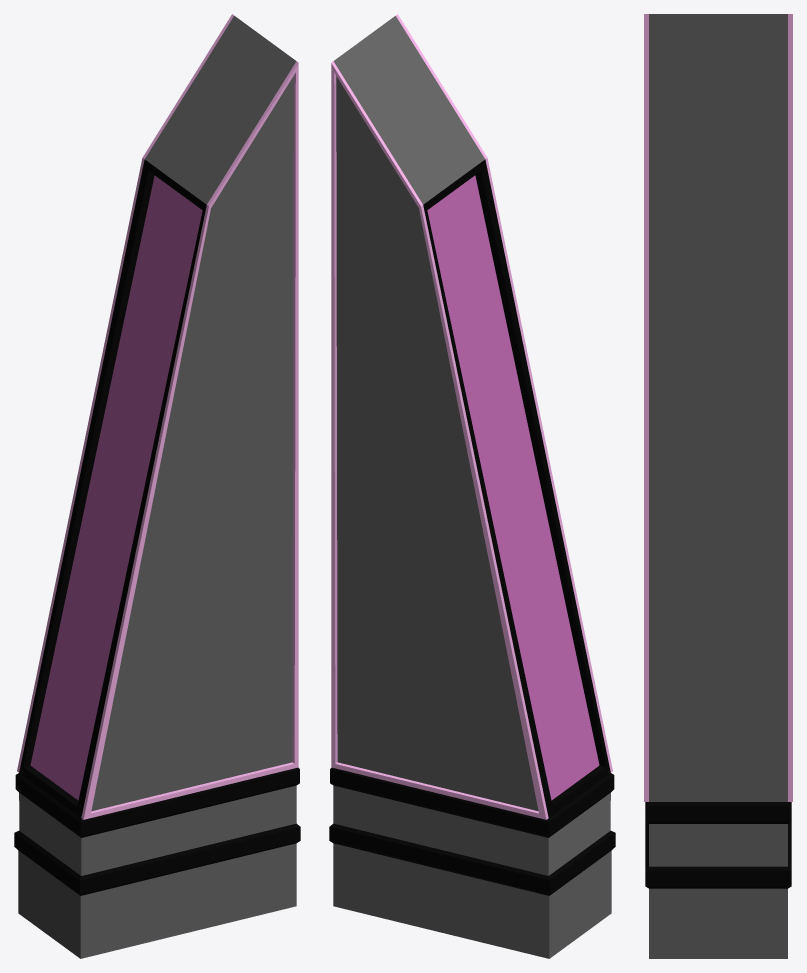
The model's file is SM_Environment_Buildings_Tall_02.fbx.
3 views of the same model, side by side, from view 1: azimuth 30°, elevation 25°; view 2: azimuth 150°, elevation 25°; view 3: azimuth 270°, elevation 25° (orthographic). The views are drawn at different scales.
Visible parts, largest first — view 1: SM_Environment_Buildings_Tall_02, Lights; view 2: SM_Environment_Buildings_Tall_02, Lights; view 3: SM_Environment_Buildings_Tall_02, Lights.
Part boxes in pixels (x1,y1,x2,y2): SM_Environment_Buildings_Tall_02: (14, 16, 300, 958); Lights: (17, 14, 298, 819); SM_Environment_Buildings_Tall_02: (329, 16, 615, 958); Lights: (331, 14, 612, 819); SM_Environment_Buildings_Tall_02: (645, 14, 791, 958); Lights: (644, 14, 792, 801).
Bounding box in the file's own units: 14.75 × 54 × 7.72.
